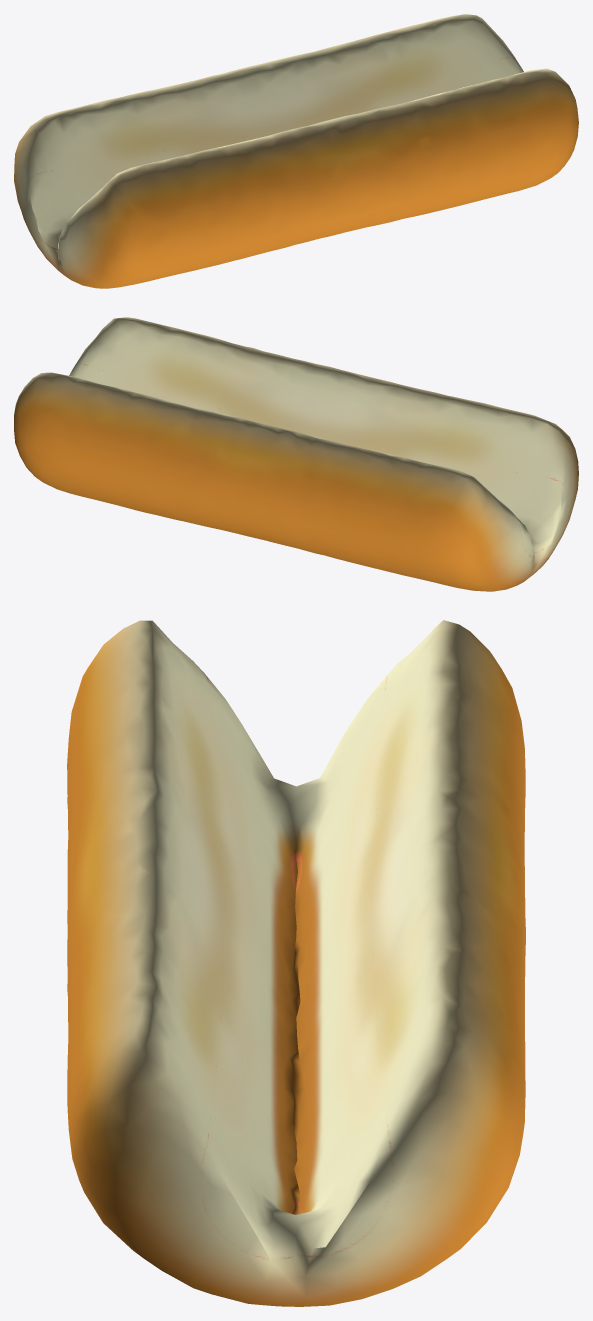
Rendered from bun.obj.
3 views of the same model, one above another, from view 1: azimuth 30°, elevation 25°; view 2: azimuth 150°, elevation 25°; view 3: azimuth 270°, elevation 25° (orthographic). The views are drawn at different scales.
Visible parts, largest first — view 1: obj1, obj1.001; view 2: obj1, obj1.001; view 3: obj1.001, obj1.
Boxes of the visible parts, bbox=[...] form: obj1: bbox=[14, 14, 578, 288]; obj1.001: bbox=[23, 14, 574, 249]; obj1: bbox=[14, 371, 578, 591]; obj1.001: bbox=[54, 317, 566, 553]; obj1.001: bbox=[85, 620, 464, 1261]; obj1: bbox=[67, 620, 525, 1306].
Size of the model in its own units: 1.95 by 0.5142 by 0.7764.
Materials: 1 (1 with a texture image).
